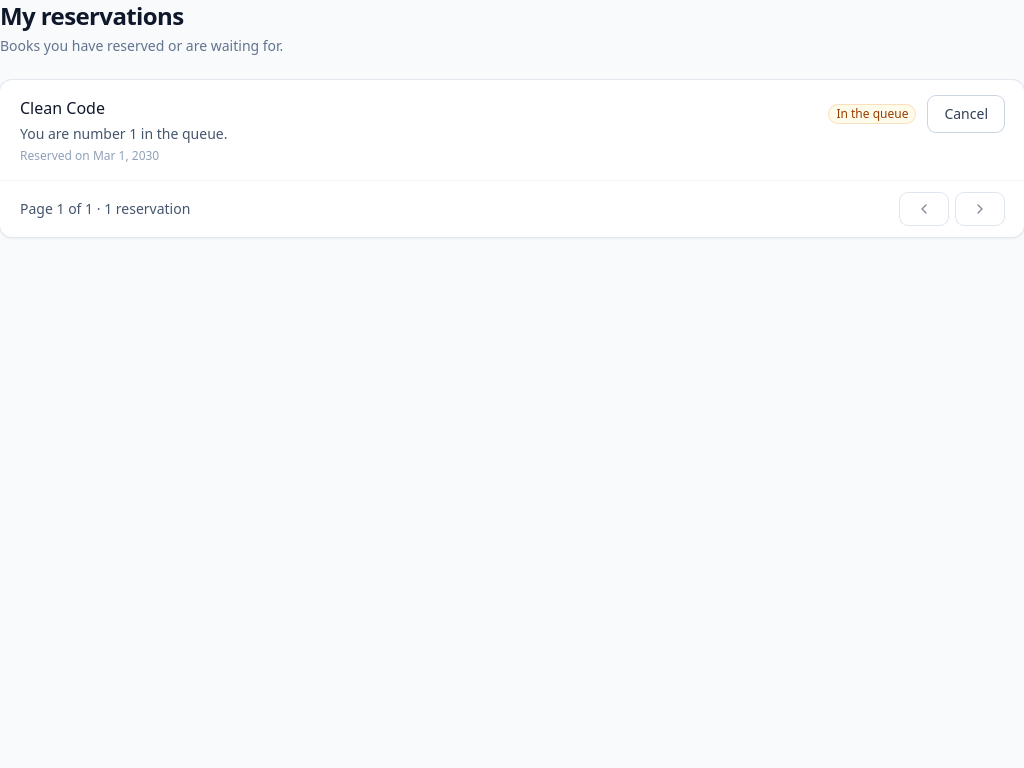
Test: MyReservationsPage › shows the server reason if cancelling fails
Click the button with aria-label "Cancel reservation for Clean Code": [966, 114] box [928,96,1004,132]
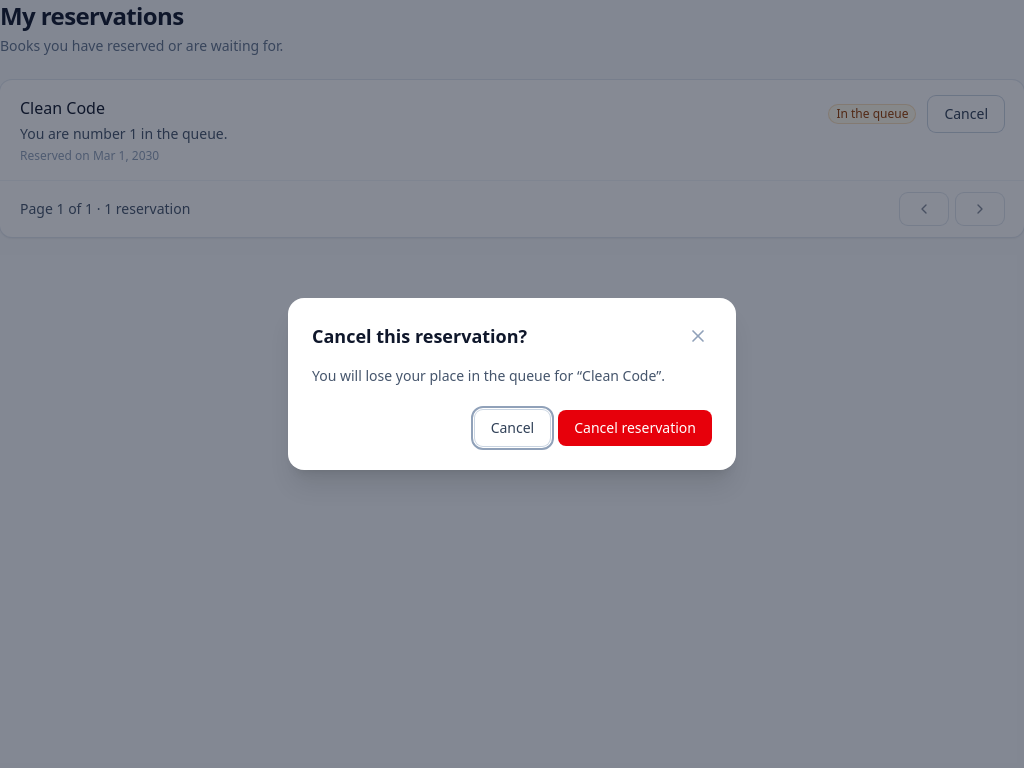
Click the button "Cancel reservation": [635, 428] box [558,410,712,446]
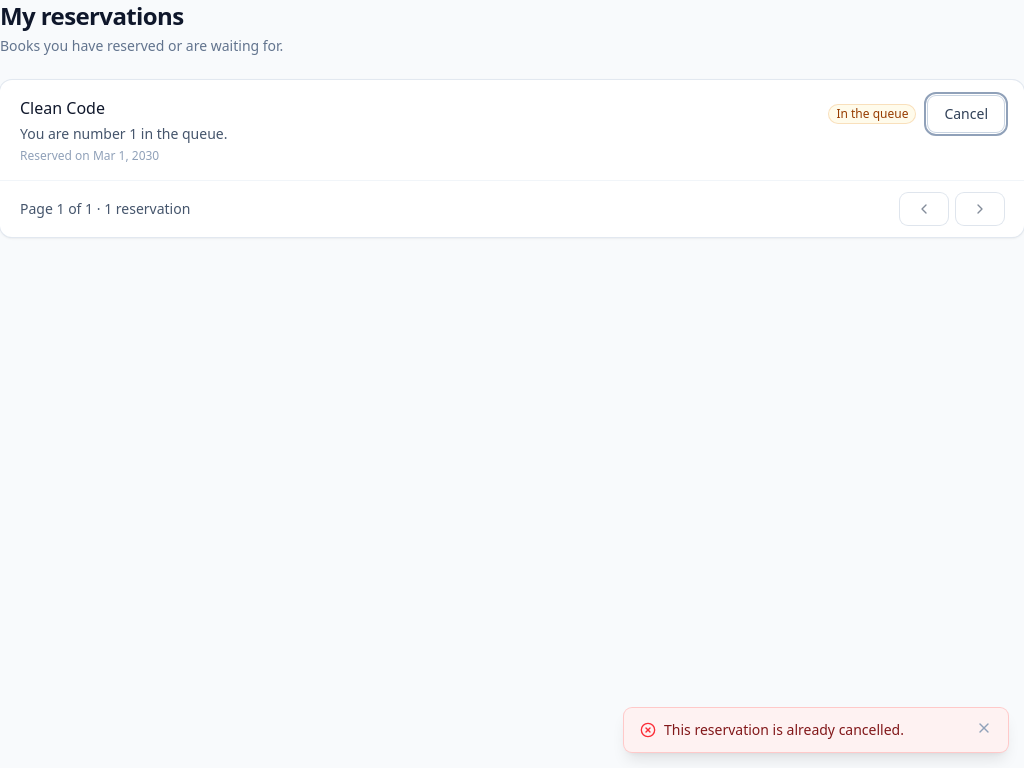
Result: the text "This reservation is already cancelled." is shown at [664,720,904,739]
